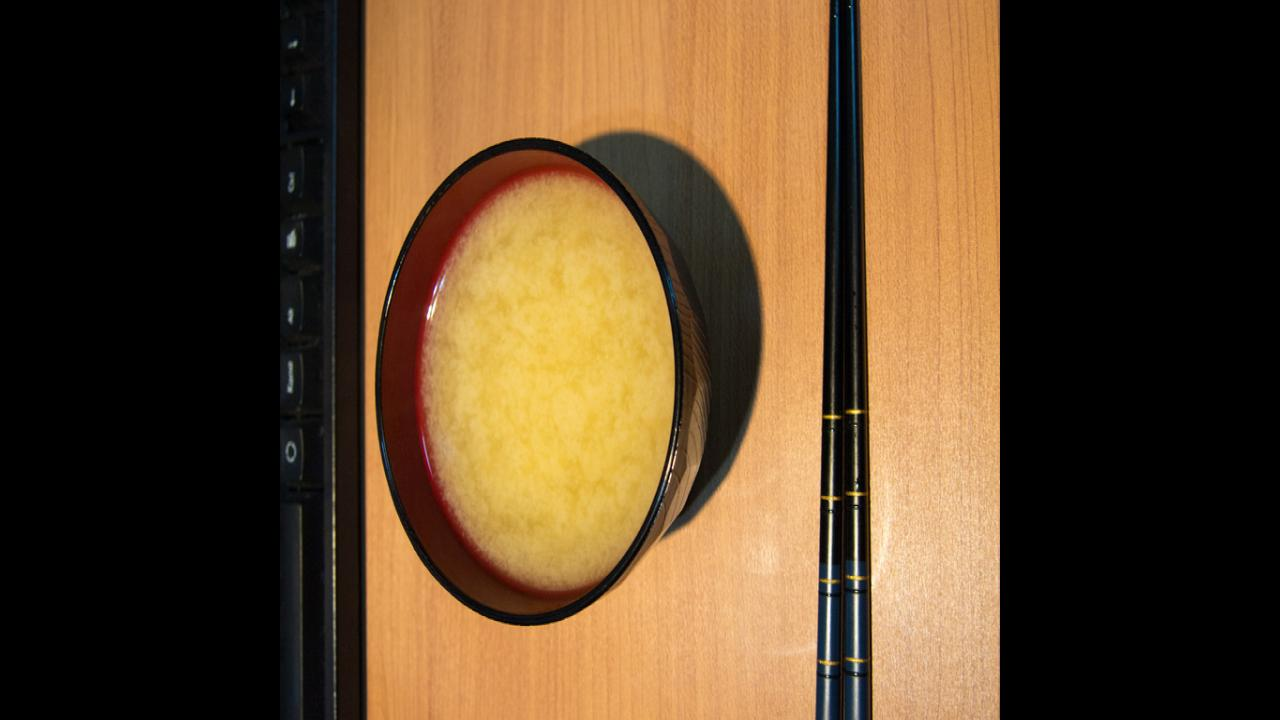chopstick: (814, 0, 874, 720)
